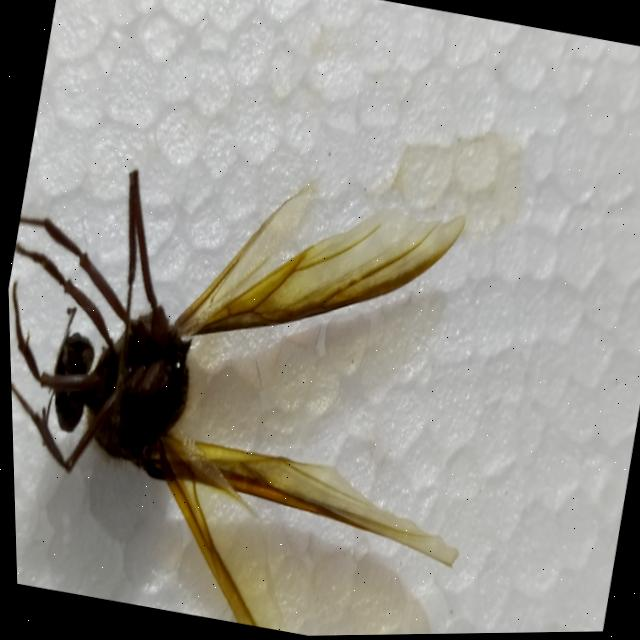Dead-Female-Alate: (3, 131, 521, 640)
